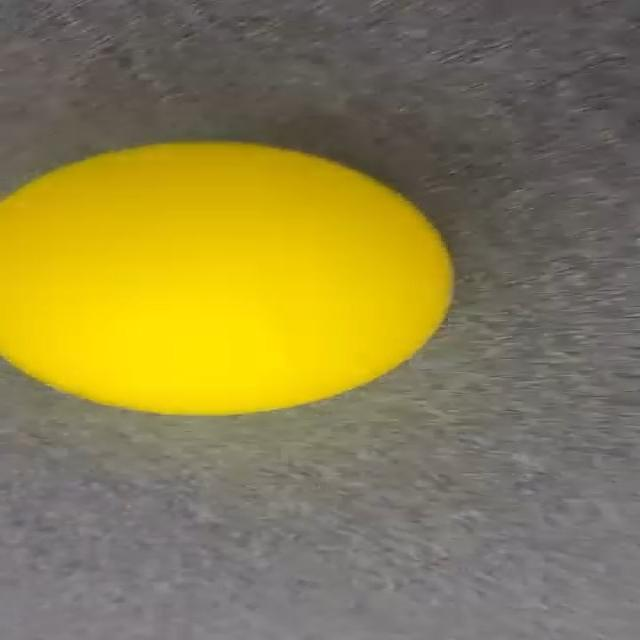Fuels: (0, 143, 448, 412)
